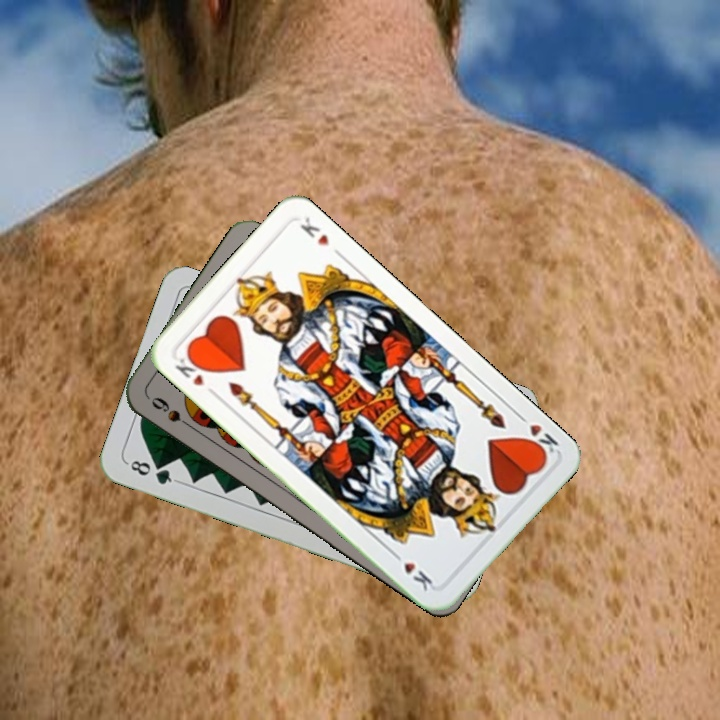G8: (123, 456, 180, 487)
HK: (513, 409, 561, 462), (171, 350, 220, 398)
S9: (147, 392, 198, 433)
